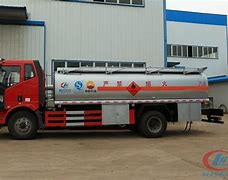oil truck: (0, 38, 209, 142)
